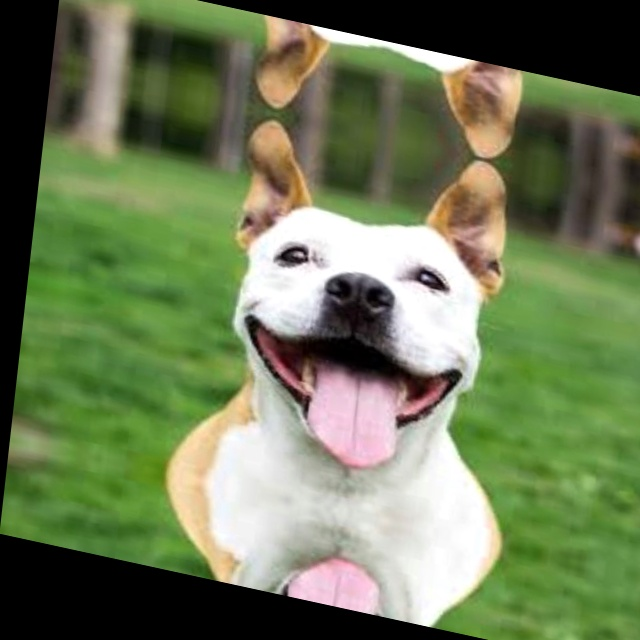dog: (168, 99, 591, 557), (210, 5, 602, 182), (157, 474, 549, 640)
